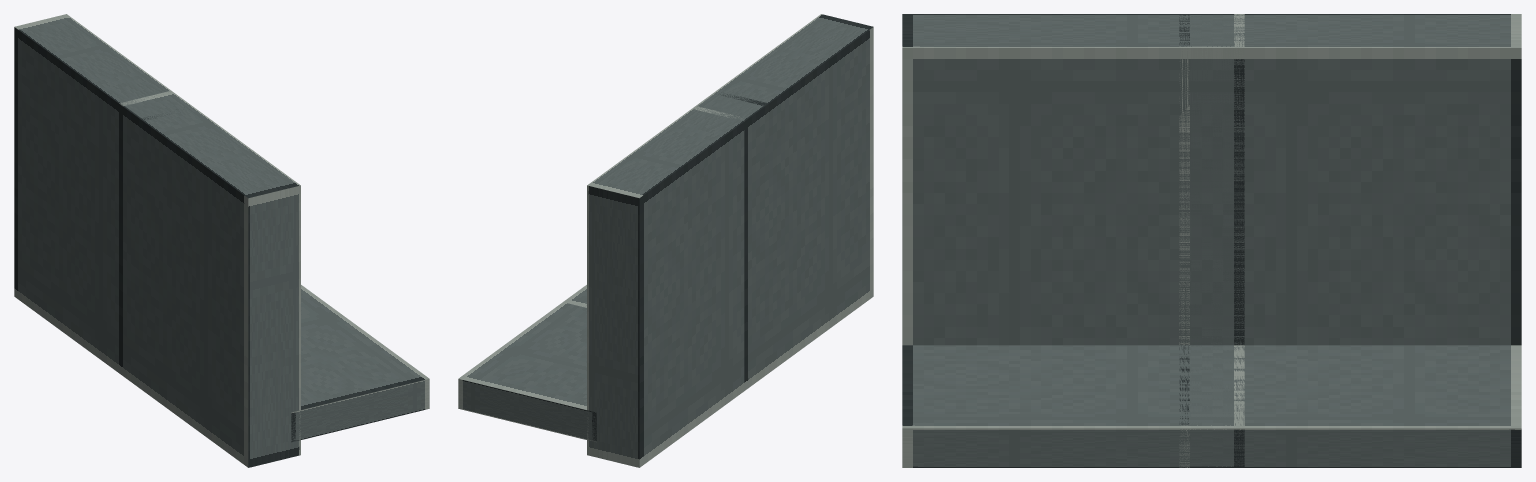
File: bench_boots_1.obj
3 renders of one model, left to right at view 1: azimuth 30°, elevation 25°; view 2: azimuth 150°, elevation 25°; view 3: azimuth 270°, elevation 25°, orthographic. The views are drawn at different scales.
Visible parts, largest first — view 1: geometry; view 2: geometry; view 3: geometry.
Part boxes in pixels (x1,y1,x2,y2): geometry: (14, 14, 429, 467); geometry: (458, 14, 873, 467); geometry: (902, 14, 1521, 467).
Size of the model in its own units: 0.1759 by 0.25 by 0.3935.
